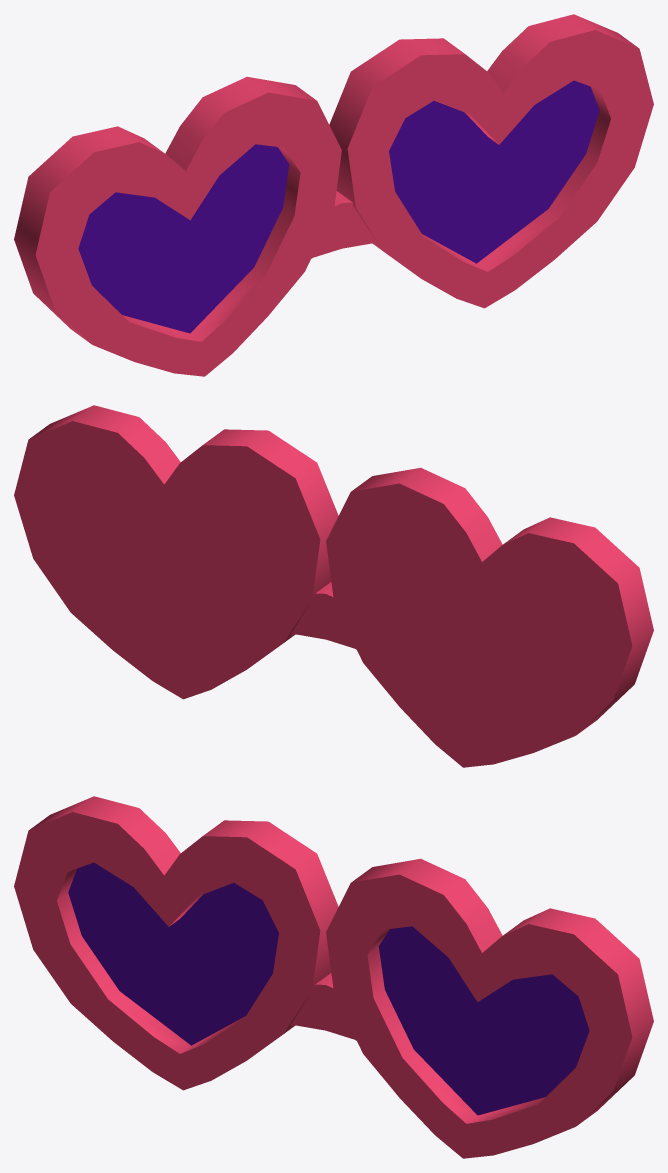
File: Eyewear_9.fbx
3 renders of one model, top to bottom at view 1: azimuth 30°, elevation 25°; view 2: azimuth 150°, elevation 25°; view 3: azimuth 330°, elevation 25°, orthographic.
Parts seen in each view (by area): view 1: Eyewear_9; view 2: Eyewear_9; view 3: Eyewear_9.
Part boxes in pixels (x1,y1,x2,y2): Eyewear_9: [14, 14, 653, 376]; Eyewear_9: [14, 405, 653, 767]; Eyewear_9: [14, 796, 653, 1158].
Bounding box in the file's own units: 47.04 × 19.53 × 2.84.
